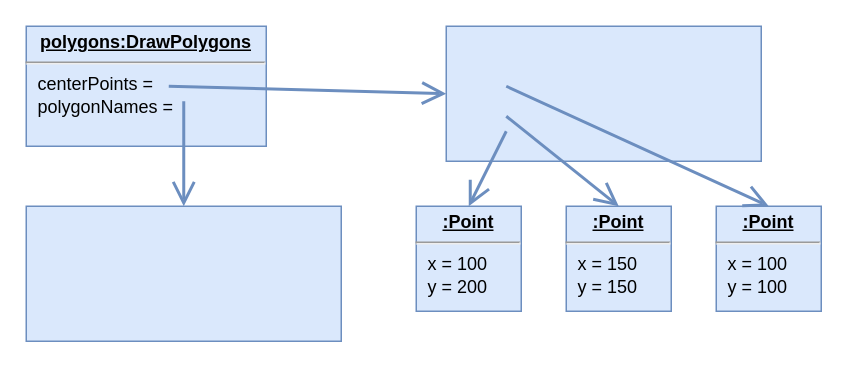
The diagram is 848 pixels wide and 368 high, and some of its shapes have lost their labels. Here are the shapes that lost their labels. From the top down, the centre of each, then its label:
(x=603, y=93): centerPoints:ArrayList<Point> [0] = [1] = [2] =
(x=183, y=273): polygonNames:ArrayList<String> [0] = "square" [1] = "triangle" [2] = "rectangle"
